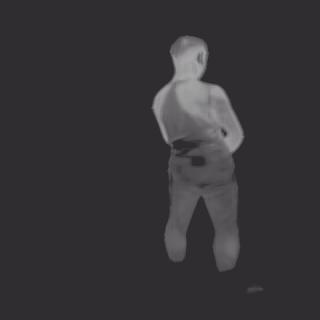Gun: (170, 138, 207, 167)
